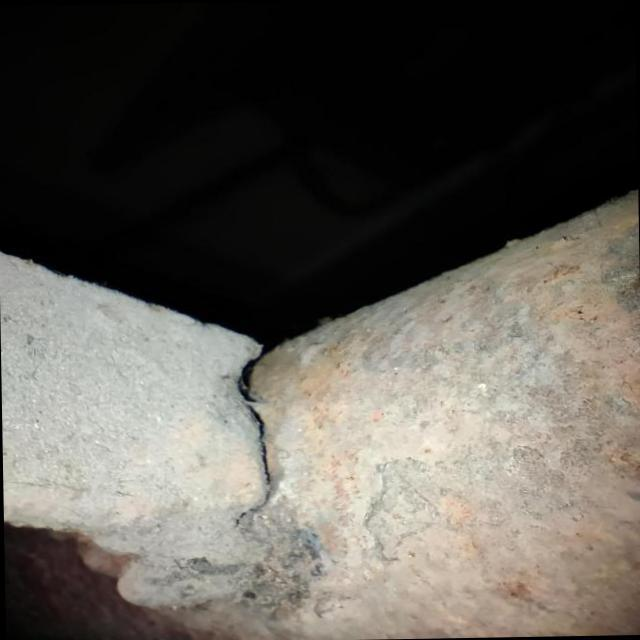defect: (232, 341, 274, 528)
